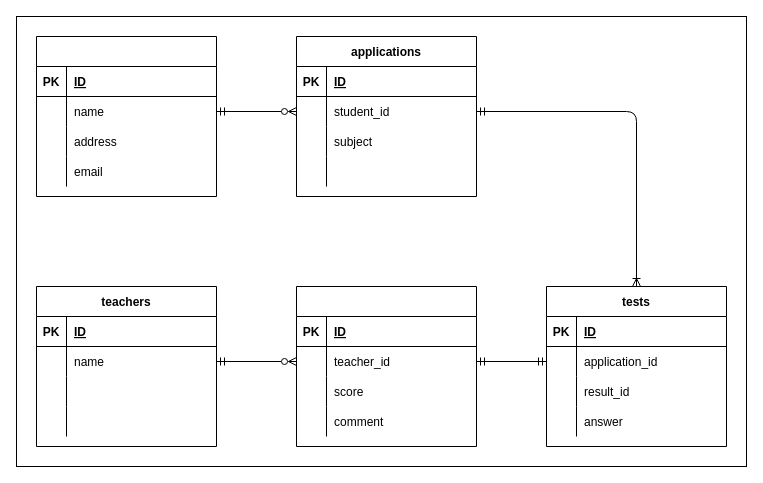
Some shapes in this 763 by 483 pixel diagram are drawn without their labels. Here are the shapes that lost their labels. From the top down, the box of each, then its label:
(36, 36, 216, 196): students
(296, 286, 476, 446): results
